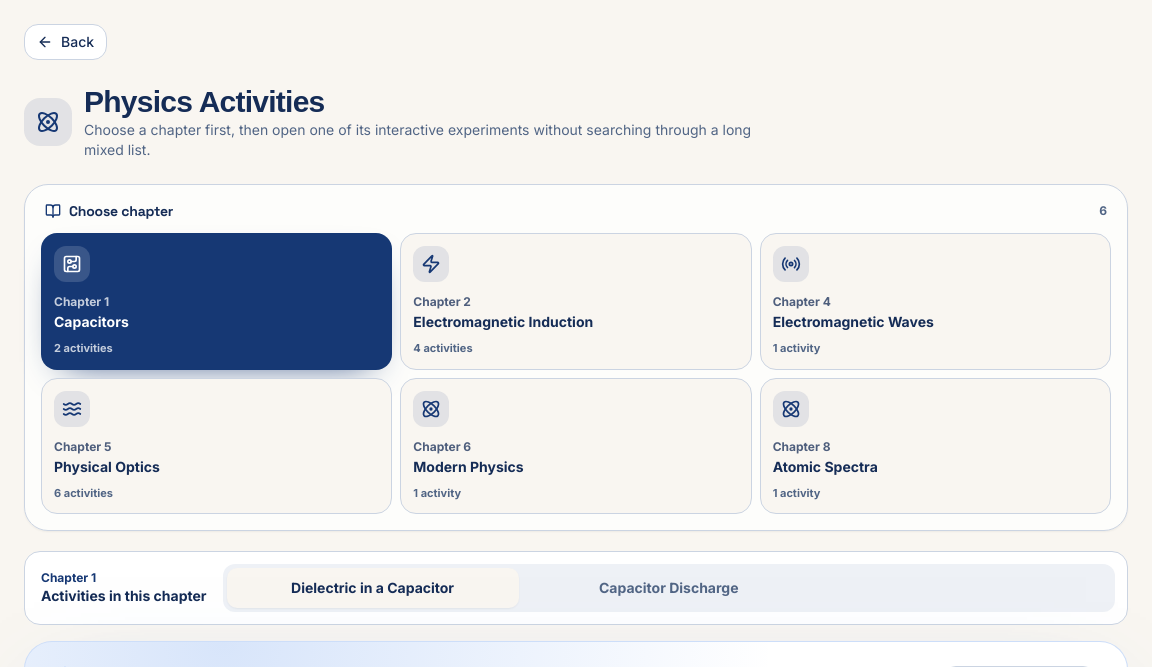
Scenario: PhysicsActivities chapter grouping › places Photoelectric Effect in Chapter 6 and Types of Spectra in Chapter 8
What coordinates should you click on to do the following:
click the button "Chapter 6 Modern Physics 1 activity"
I would click on:
 (431, 408)
Its box is [400, 378, 752, 514].
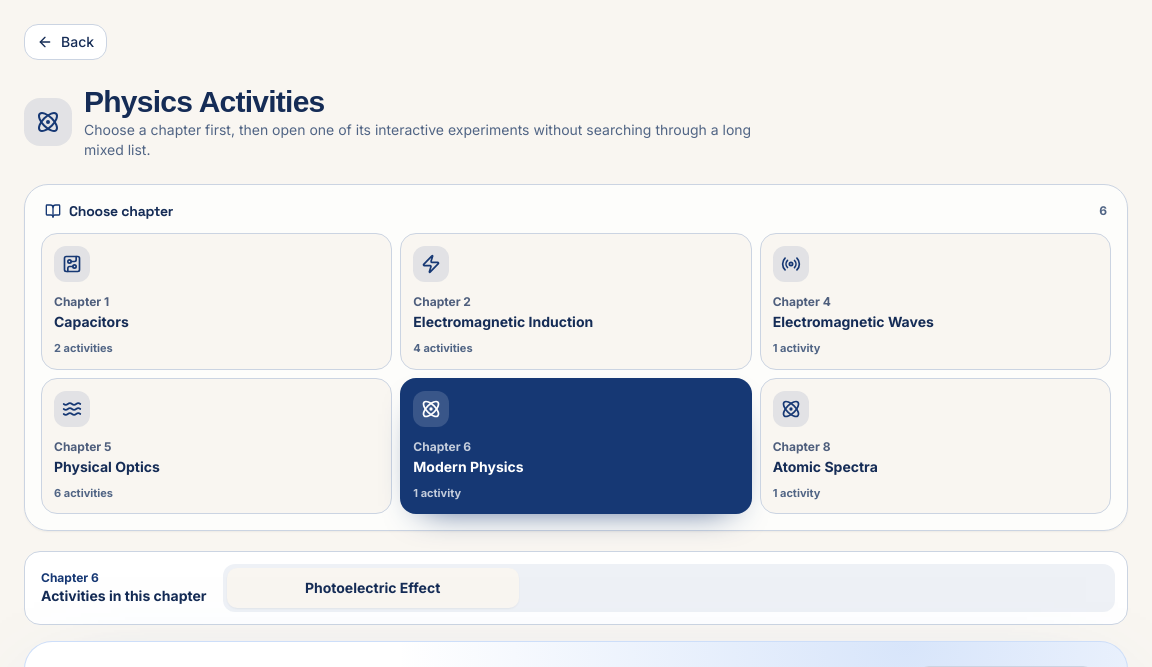
Expected: the tab "Types of Spectra" is not shown
Expected: the tab "Photoelectric Effect" is shown, [226, 568, 519, 608]
What coordinates should you click on to do the following:
click the button "Chapter 8 Atomic Spectra 1 activity"
I would click on:
 (791, 408)
Its box is [760, 378, 1111, 514].
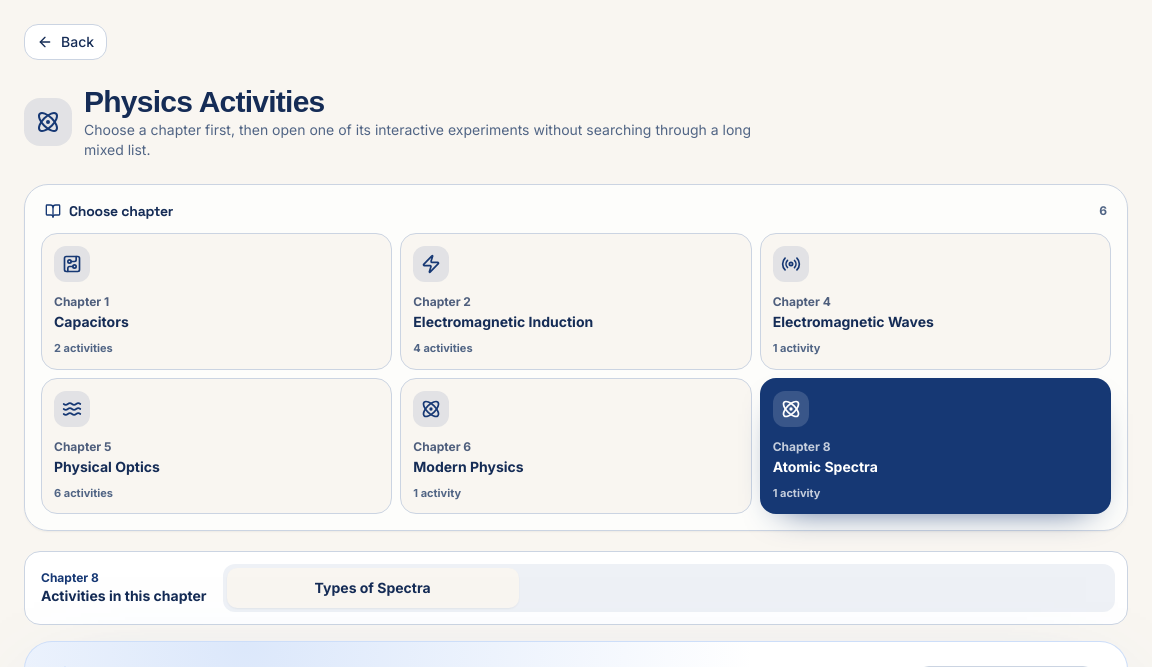
Expected: the tab "Types of Spectra" is shown, [226, 568, 519, 608]
Expected: the tab "Photoelectric Effect" is gone
